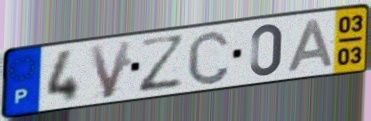0: (249, 22, 285, 79)
4: (44, 47, 85, 104)
A: (284, 17, 335, 74)
C: (186, 28, 232, 88)
V: (86, 37, 135, 101)
Z: (138, 32, 189, 96)
